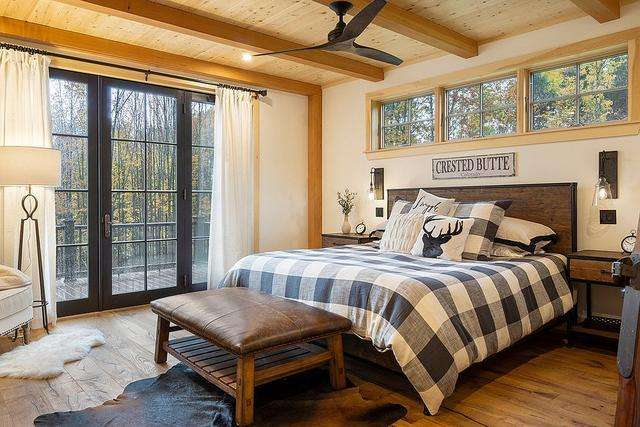床: (211, 242, 569, 396)
枕头: (380, 193, 546, 262)
灯: (1, 146, 59, 339), (594, 155, 622, 209), (363, 162, 387, 203), (237, 47, 254, 66)
